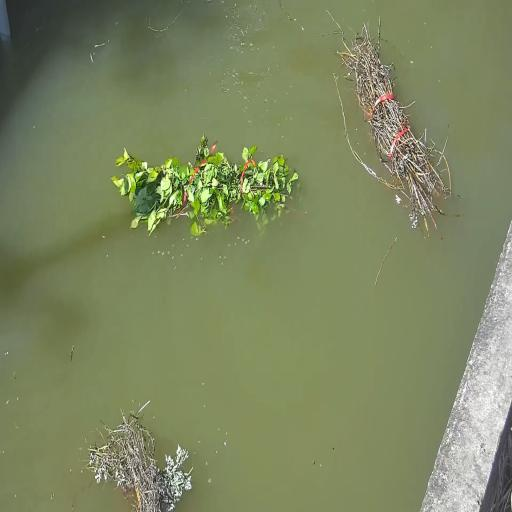twig: (112, 136, 298, 235), (358, 92, 451, 232), (89, 409, 191, 512), (341, 27, 392, 106)
